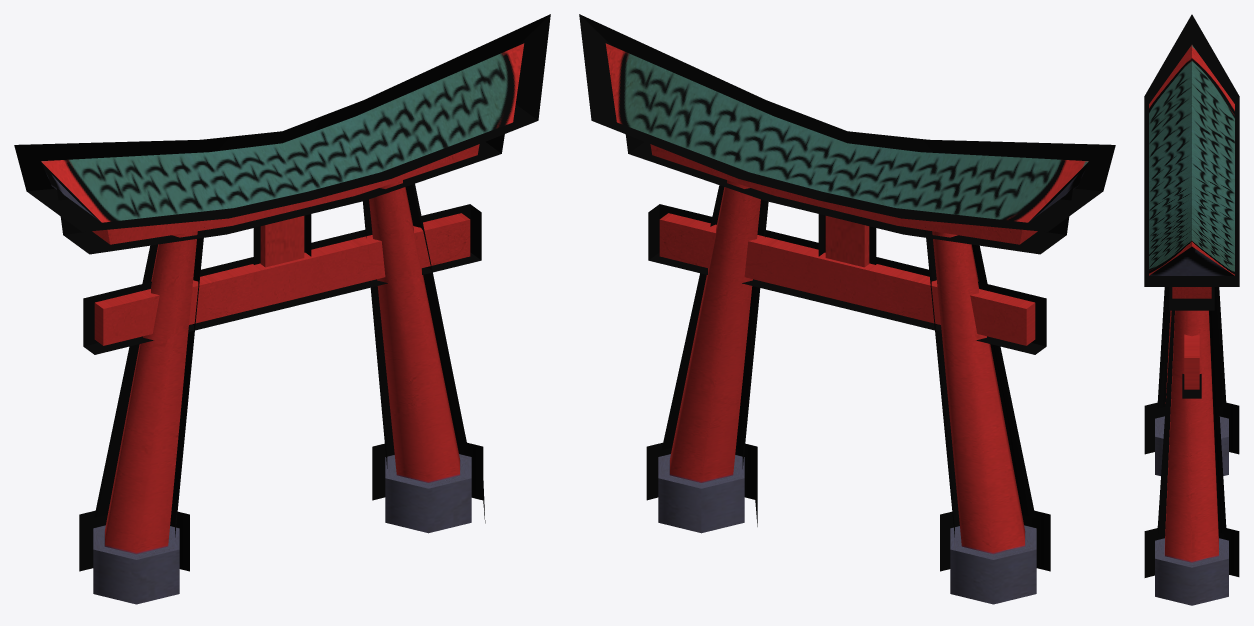
File: toriiModel.fbx
The picture shows the model from 3 angles, left to right: view 1: azimuth 30°, elevation 25°; view 2: azimuth 150°, elevation 25°; view 3: azimuth 270°, elevation 25°; orthographic projection. The views are drawn at different scales.
Visible parts, largest first — view 1: polySurface1, shadow; view 2: polySurface1, shadow; view 3: polySurface1, shadow.
Boxes of the visible parts, x1,y1,x2,y2 form: polySurface1: (41,43,524,604); shadow: (14,14,550,571); polySurface1: (605,43,1088,604); shadow: (579,14,1115,571); polySurface1: (1149,45,1234,605); shadow: (1144,14,1239,577).
Bounding box in the file's own units: 1058 × 885 × 190.
